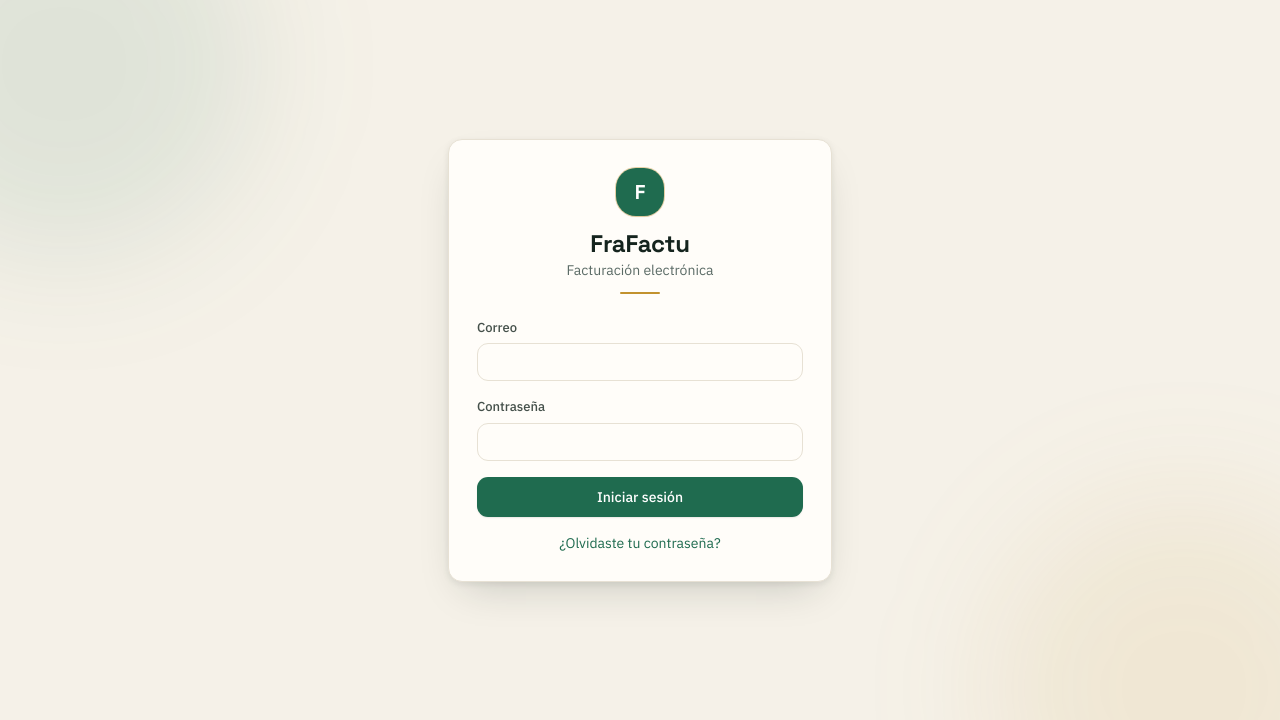
it: LoginPage › credenciales inválidas muestran error y no navega
Type "ana@x.com" into the field labelled "Correo" at (640, 362), box [477,343,803,381]
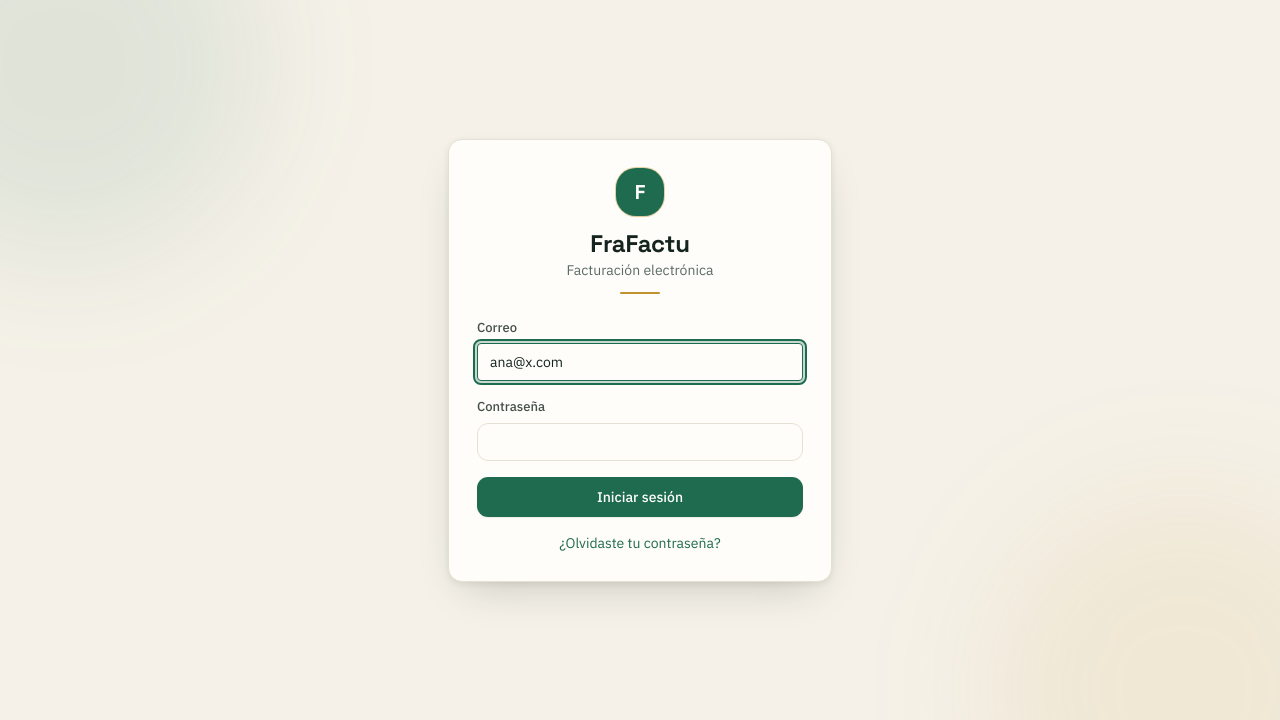
Type "mala" into the password field labelled "Contraseña" at (640, 442), box [477,422,803,460]
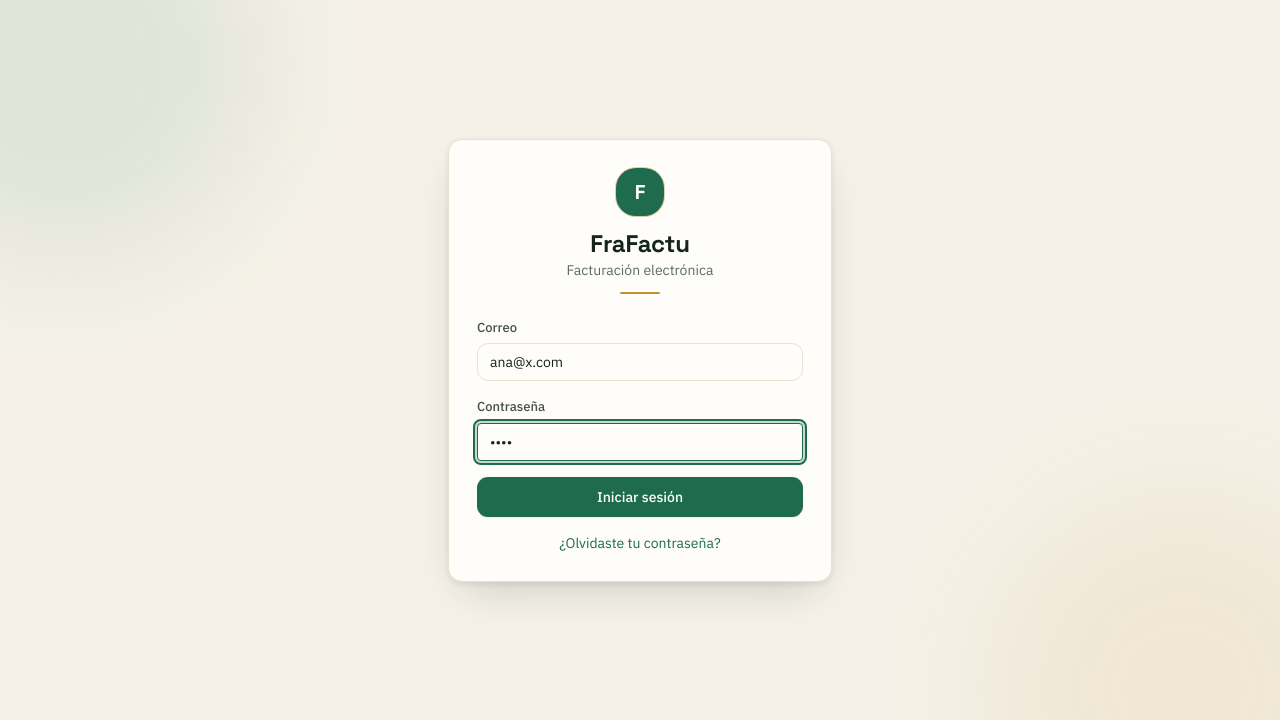
Click the button "Iniciar sesión" at (640, 496), box [477,476,803,516]
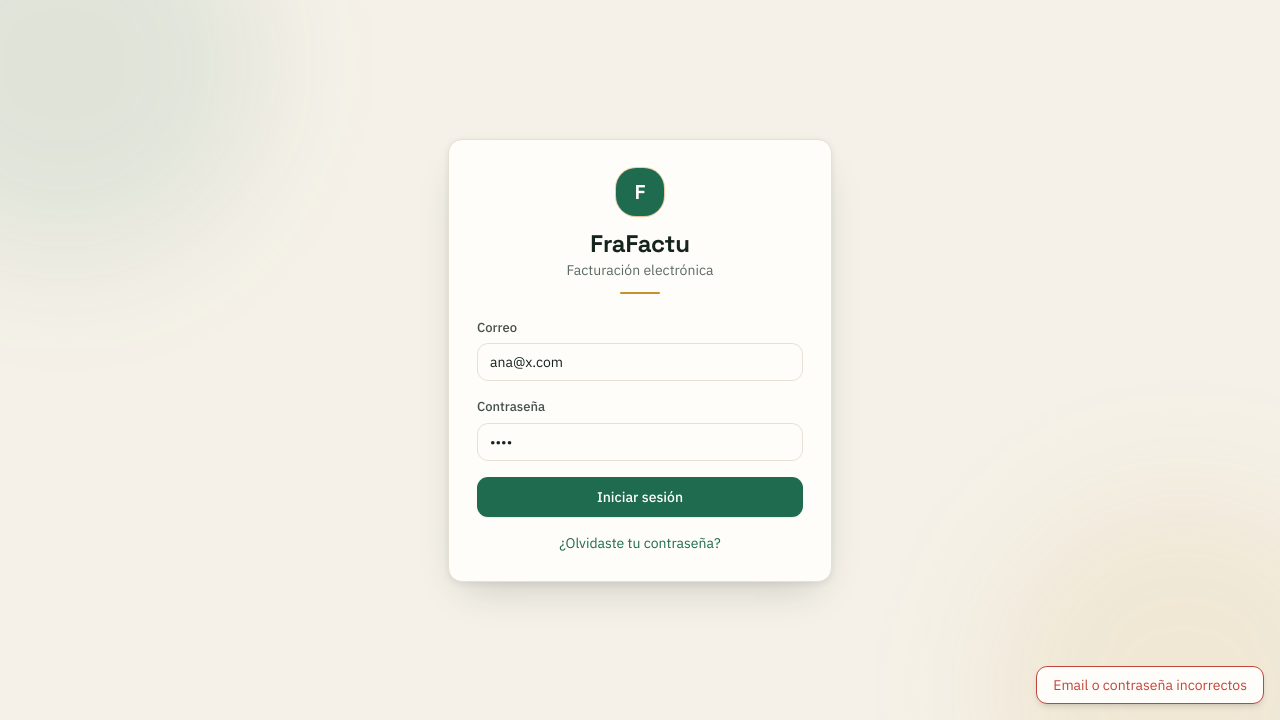
expect the text "Email o contraseña incorrectos" is shown: met, box [1036,666,1264,704]
